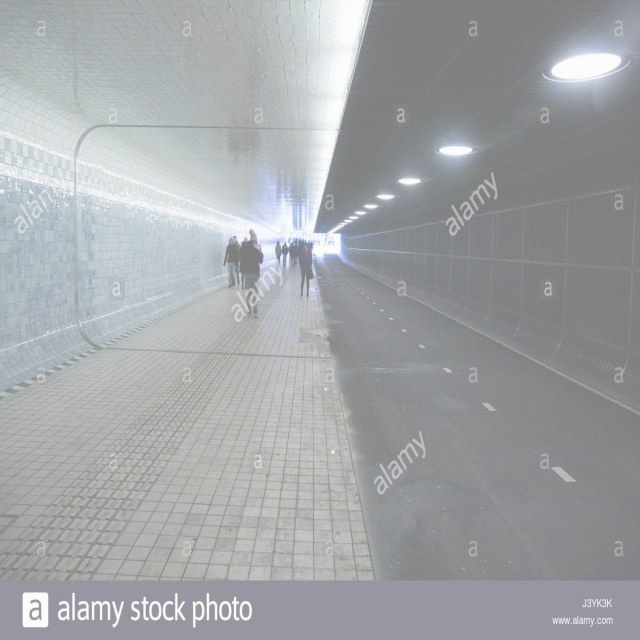pessoa: (242, 228, 264, 320), (222, 234, 240, 290), (299, 242, 315, 298), (238, 237, 252, 290), (286, 235, 304, 270), (230, 235, 240, 286), (310, 235, 336, 252), (274, 240, 282, 270), (280, 240, 288, 268), (304, 238, 310, 246)
